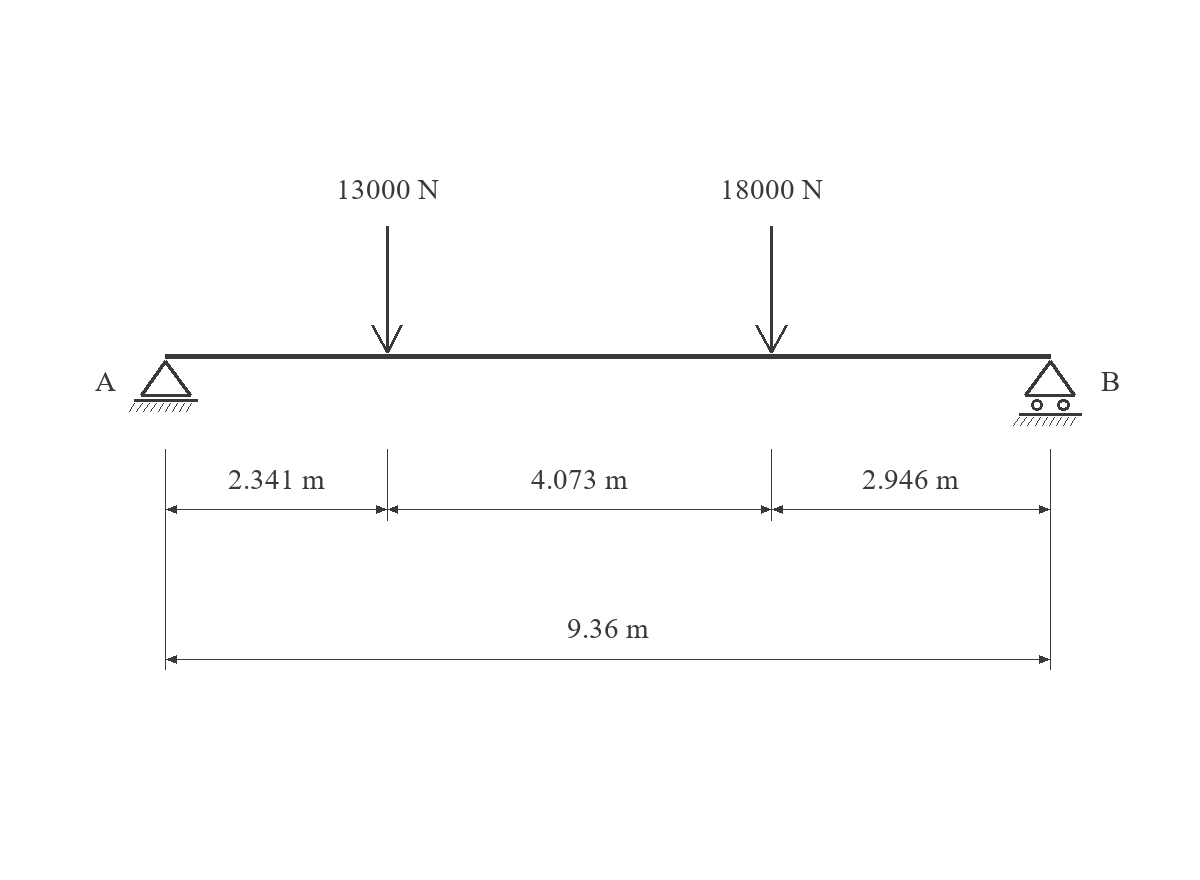pin_support: (129, 360, 198, 412)
point_load: (755, 226, 788, 353), (371, 226, 403, 353)
roller_support: (1013, 360, 1082, 426)
